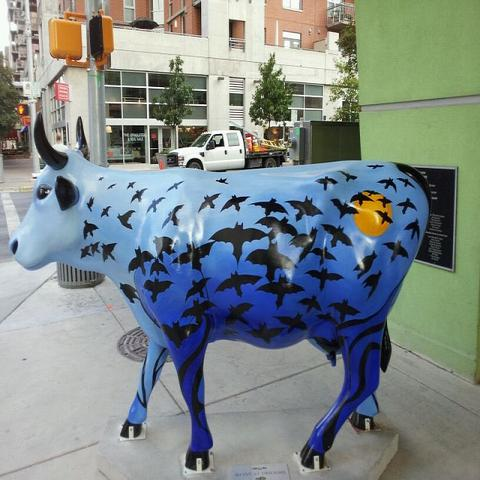truck: (168, 120, 288, 172)
